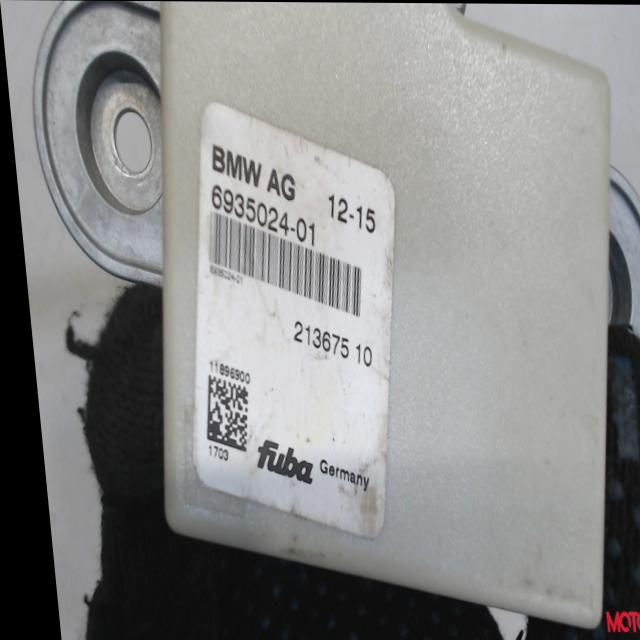datamatrix: (194, 375, 245, 452)
